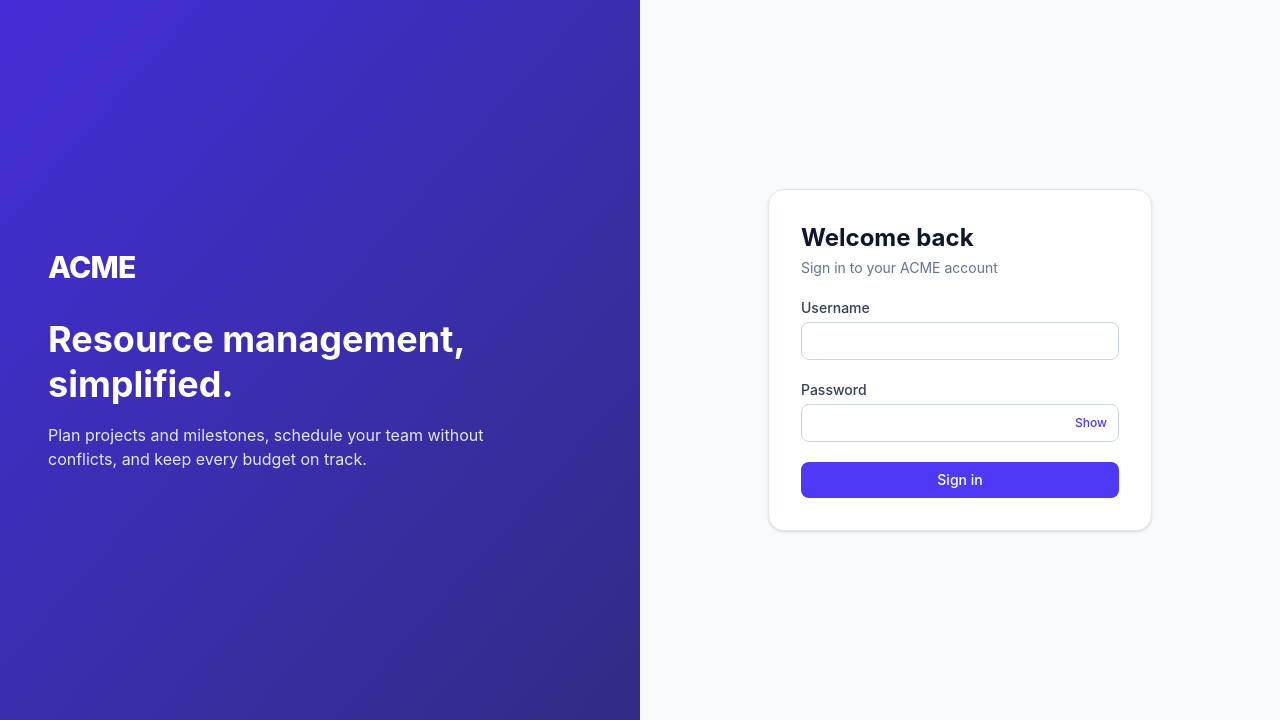
Test: LoginPage › shows the API error and re-enables the form when login fails
The width and height of the screenshot is (1280, 720).
In the field labelled "Username": (960, 341) [801,322,1119,360], type "admin"
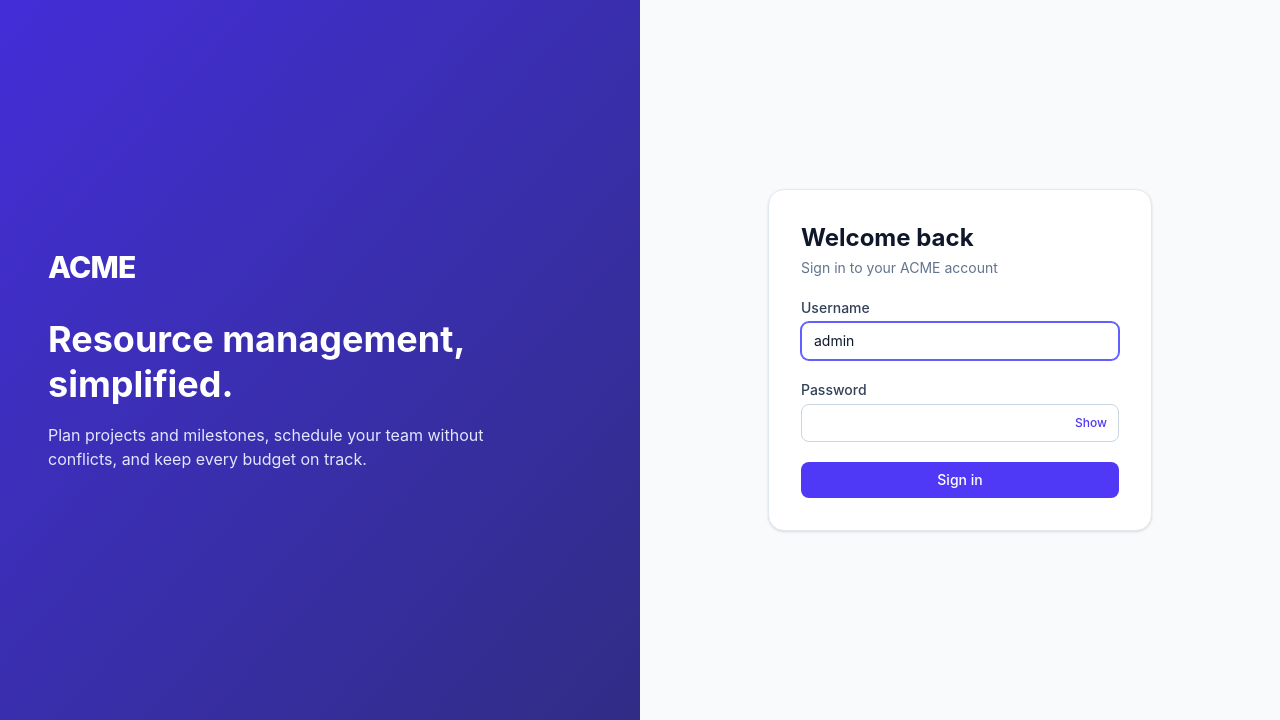
In the password field labelled "Password": (960, 423) [801,404,1119,442], type "wrong"
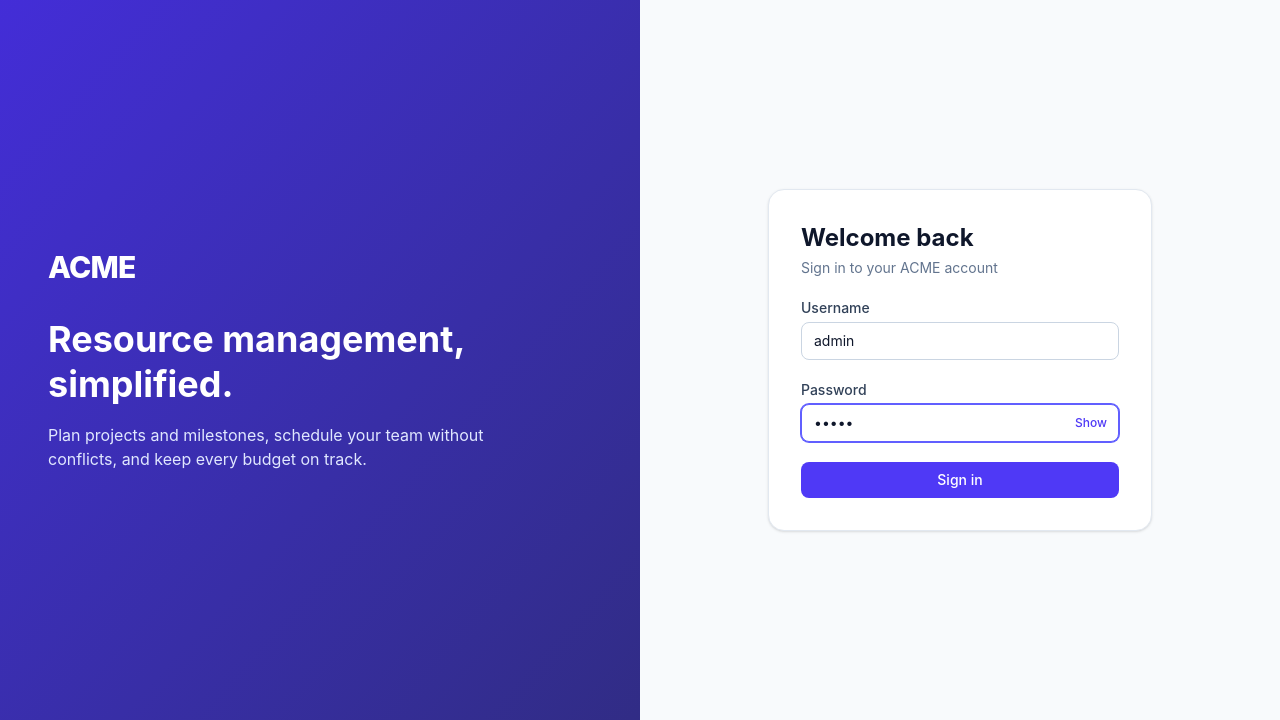
Click the button "Sign in": (960, 480) [801,462,1119,498]
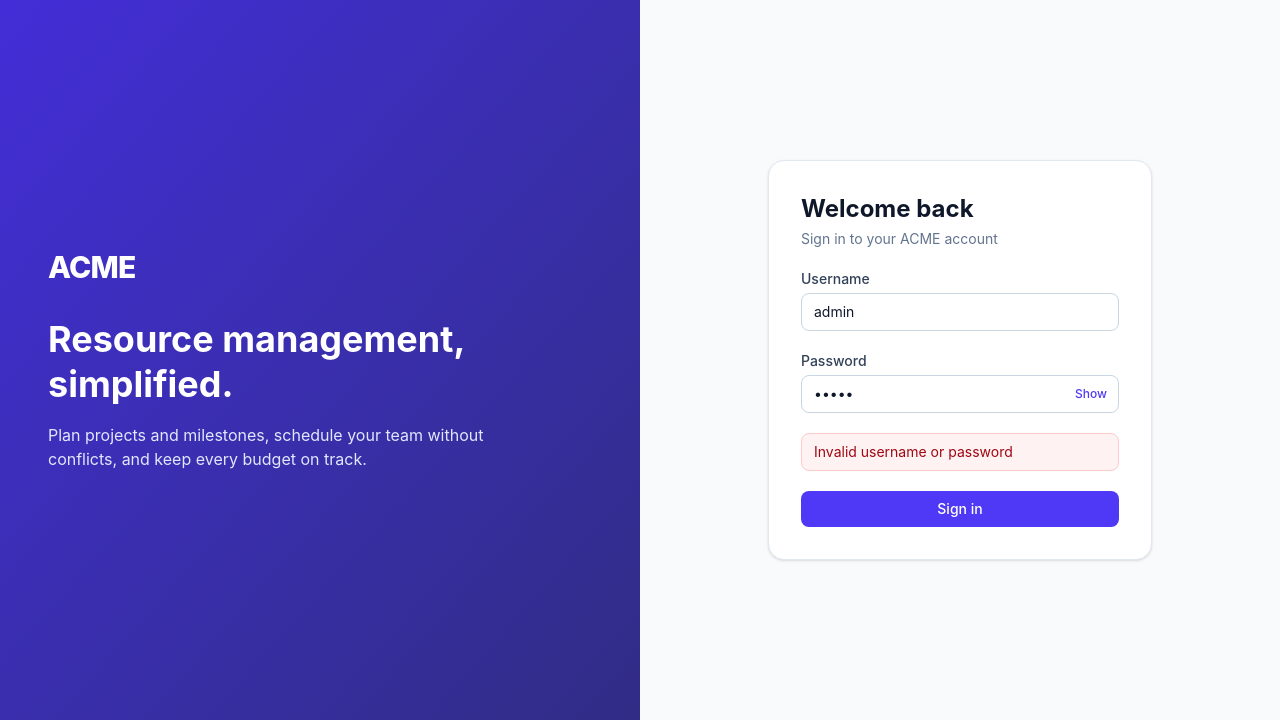
Expected: the button "Sign in" is enabled, [801,491,1119,527]
Expected: the text "Invalid username or password" is shown, [801,433,1119,471]
